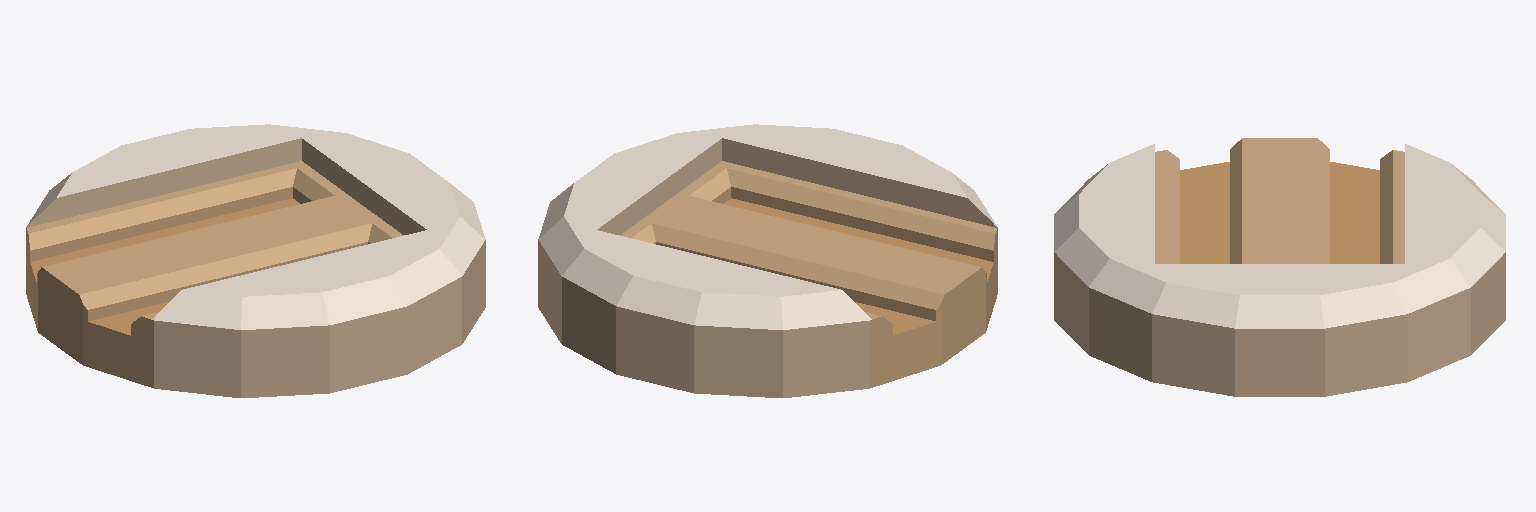
File: Puzzle_Track_Rotating_Platform_End.obj
The picture shows the model from 3 angles: view 1: azimuth 30°, elevation 25°; view 2: azimuth 150°, elevation 25°; view 3: azimuth 270°, elevation 25°; orthographic projection.
Visible parts, largest first — view 1: object1; view 2: object1; view 3: object1.
Part boxes in pixels (x1,y1,x2,y2): object1: (26,124,485,397); object1: (538,124,997,397); object1: (1054,138,1505,396).
Size of the model in its own units: 0.9 by 0.2 by 0.9.